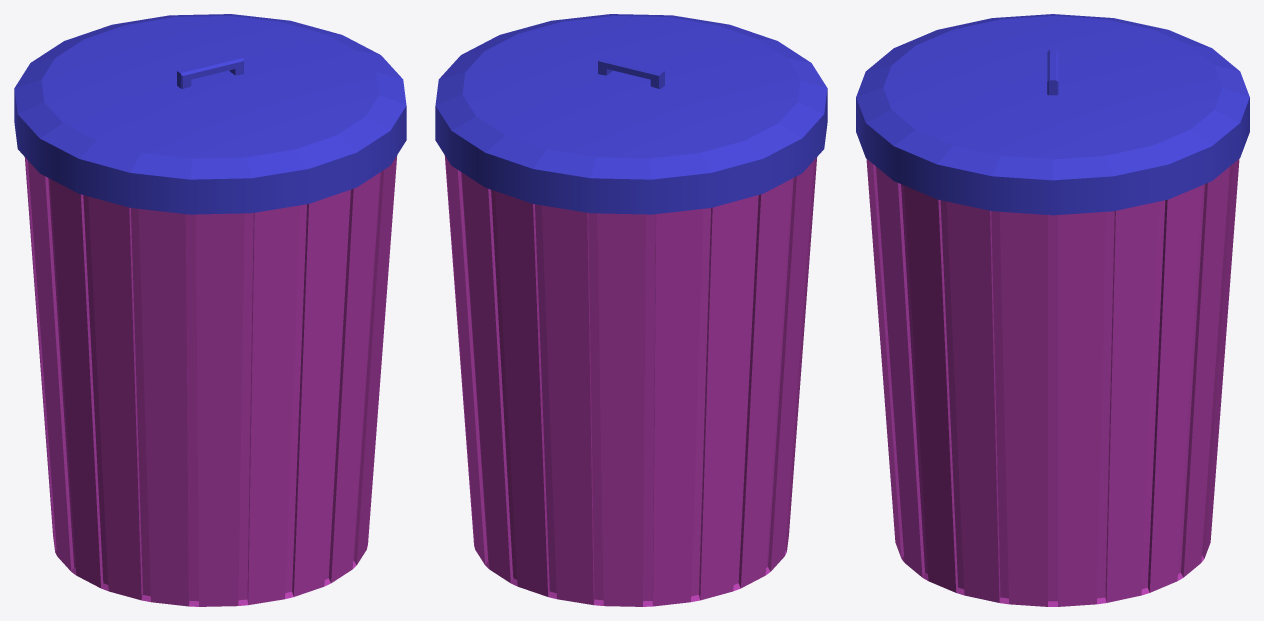
File: LataLixoRefeitorio.fbx
3 views of the same model, side by side, from view 1: azimuth 30°, elevation 25°; view 2: azimuth 150°, elevation 25°; view 3: azimuth 270°, elevation 25° (orthographic).
Visible parts, largest first — view 1: pCylinder1, pCylinder3; view 2: pCylinder1, pCylinder3; view 3: pCylinder1, pCylinder3.
Part boxes in pixels (left/top/right/bottom): pCylinder1: left=24, top=155, right=397, bottom=606; pCylinder3: left=14, top=14, right=406, bottom=214; pCylinder1: left=444, top=155, right=817, bottom=606; pCylinder3: left=435, top=14, right=827, bottom=214; pCylinder1: left=866, top=158, right=1239, bottom=606; pCylinder3: left=856, top=14, right=1249, bottom=215.
Size of the model in its own units: 8.43 by 11.23 by 8.43.
